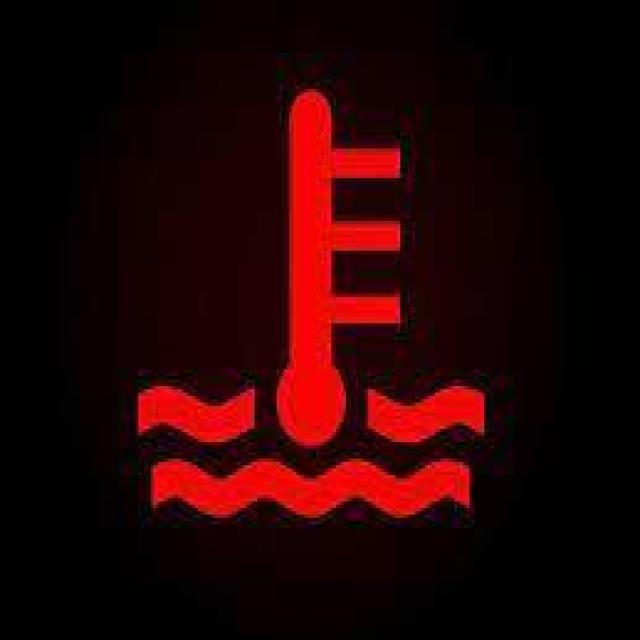kontrolka: (106, 77, 530, 547)
